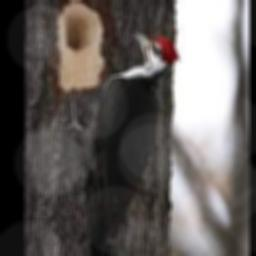Woodpecker: (61, 31, 179, 256)
